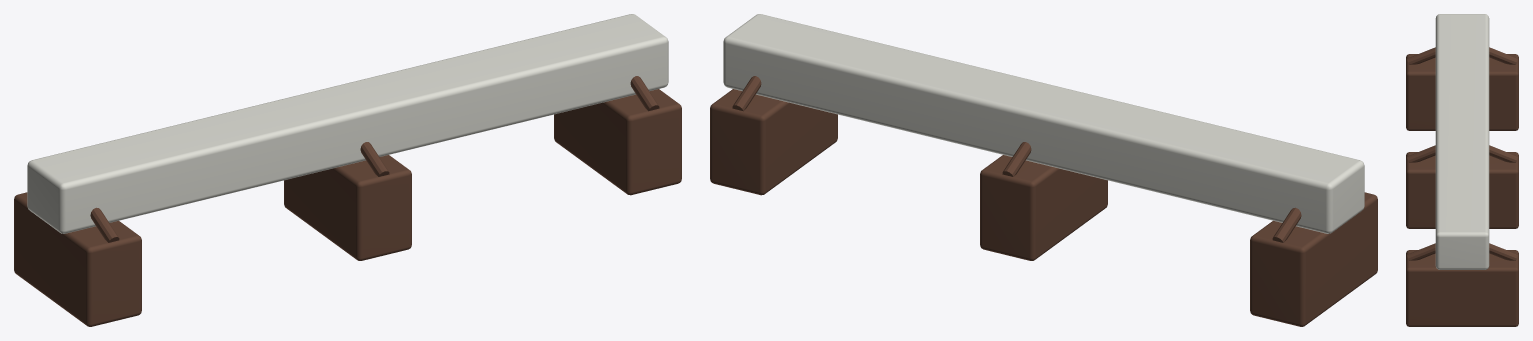
File: game_balance_beam.glb
3 views of the same model, side by side, from view 1: azimuth 30°, elevation 25°; view 2: azimuth 150°, elevation 25°; view 3: azimuth 270°, elevation 25° (orthographic). The views are drawn at different scales.
Visible parts, largest first — view 1: Tint.026, Beam foot, Beam foot.002, Beam foot.001, Beam brace.003, Beam brace.005, Beam brace.001; view 2: Tint.026, Beam foot, Beam foot.002, Beam foot.001, Beam brace.002, Beam brace.004, Beam brace; view 3: Tint.026, Beam foot.002, Beam foot.001, Beam foot, Beam brace.002, Beam brace.003, Beam brace.004, Beam brace.005, Beam brace, Beam brace.001.
Boxes of the visible parts, bbox=[...] form: Tint.026: bbox=[27, 14, 668, 233]; Beam foot: bbox=[14, 192, 141, 326]; Beam foot.002: bbox=[554, 89, 681, 195]; Beam foot.001: bbox=[284, 155, 411, 260]; Beam brace.003: bbox=[360, 142, 389, 176]; Beam brace.005: bbox=[630, 76, 659, 111]; Beam brace.001: bbox=[90, 207, 119, 242]; Tint.026: bbox=[723, 14, 1364, 233]; Beam foot: bbox=[1250, 192, 1377, 326]; Beam foot.002: bbox=[710, 89, 837, 195]; Beam foot.001: bbox=[980, 155, 1107, 260]; Beam brace.002: bbox=[1002, 142, 1031, 176]; Beam brace.004: bbox=[732, 76, 761, 111]; Beam brace: bbox=[1272, 207, 1301, 242]; Tint.026: bbox=[1435, 14, 1489, 269]; Beam foot.002: bbox=[1406, 250, 1518, 326]; Beam foot.001: bbox=[1406, 152, 1518, 228]; Beam foot: bbox=[1406, 54, 1518, 130]; Beam brace.002: bbox=[1489, 145, 1517, 162]; Beam brace.003: bbox=[1407, 145, 1435, 162]; Beam brace.004: bbox=[1489, 243, 1517, 260]; Beam brace.005: bbox=[1407, 243, 1435, 260]; Beam brace: bbox=[1489, 47, 1517, 64]; Beam brace.001: bbox=[1407, 47, 1435, 64].
Size of the model in its own units: 1.76 by 0.36 by 0.38.
